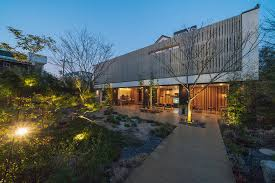house: (112, 27, 269, 113)
sky: (2, 1, 215, 52)
tree: (6, 56, 127, 183), (161, 35, 224, 117)
